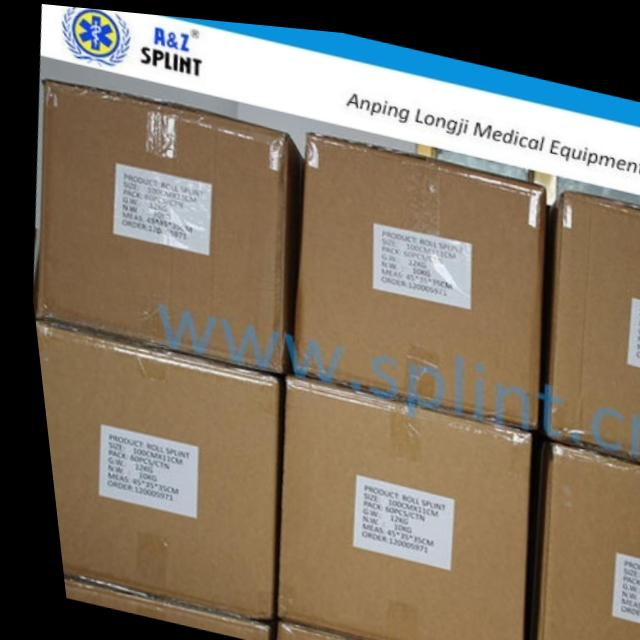box: (26, 79, 302, 374), (284, 126, 546, 421), (28, 319, 271, 620), (263, 373, 523, 640), (535, 180, 640, 453), (515, 427, 640, 640), (50, 575, 260, 639), (259, 617, 372, 640)
